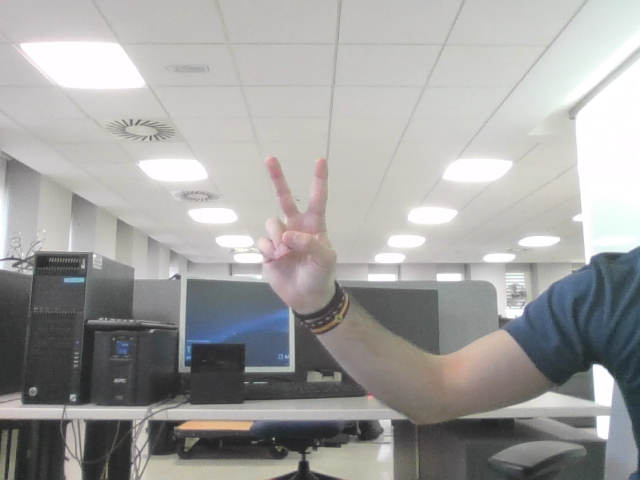2Dedos: (265, 169, 321, 274)
